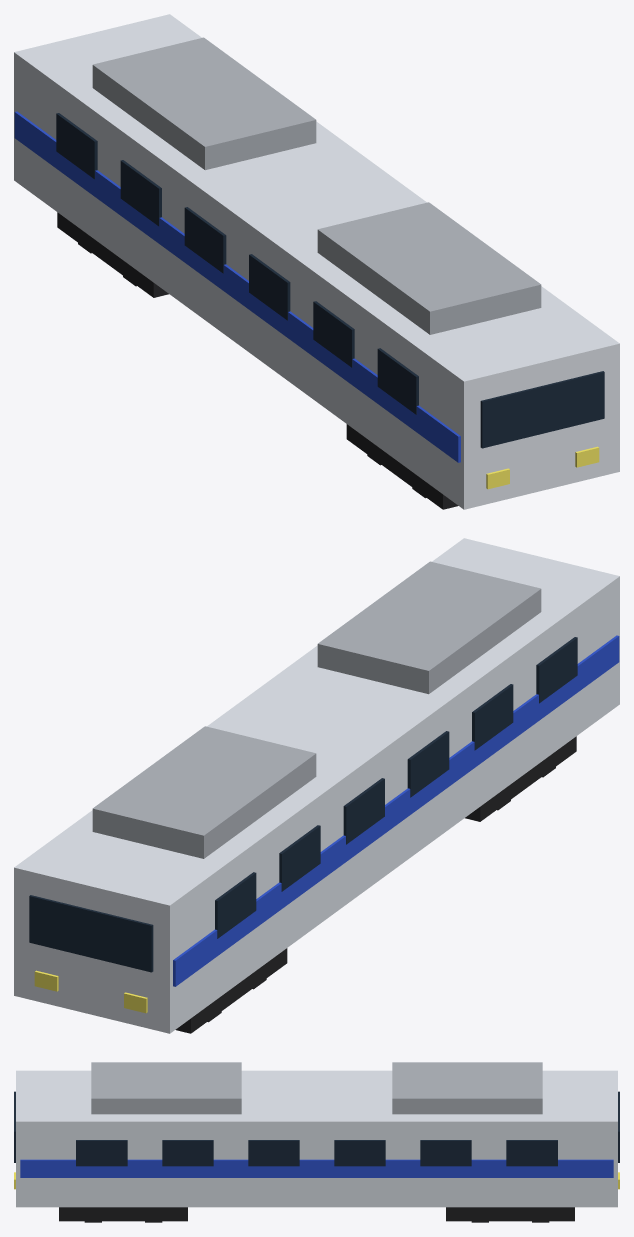
The model's file is env_lrt_train_car.obj.
The picture shows the model from 3 angles, top to bottom: view 1: azimuth 30°, elevation 25°; view 2: azimuth 150°, elevation 25°; view 3: azimuth 270°, elevation 25°; orthographic projection. The views are drawn at different scales.
Parts seen in each view (by area): view 1: env_lrt_train_car; view 2: env_lrt_train_car; view 3: env_lrt_train_car.
Part boxes in pixels (left/top/right/bottom): env_lrt_train_car: left=14, top=14, right=619, bottom=509; env_lrt_train_car: left=14, top=538, right=619, bottom=1033; env_lrt_train_car: left=14, top=1062, right=619, bottom=1222.
Size of the model in its own units: 2.9 by 3.1 by 14.09.
